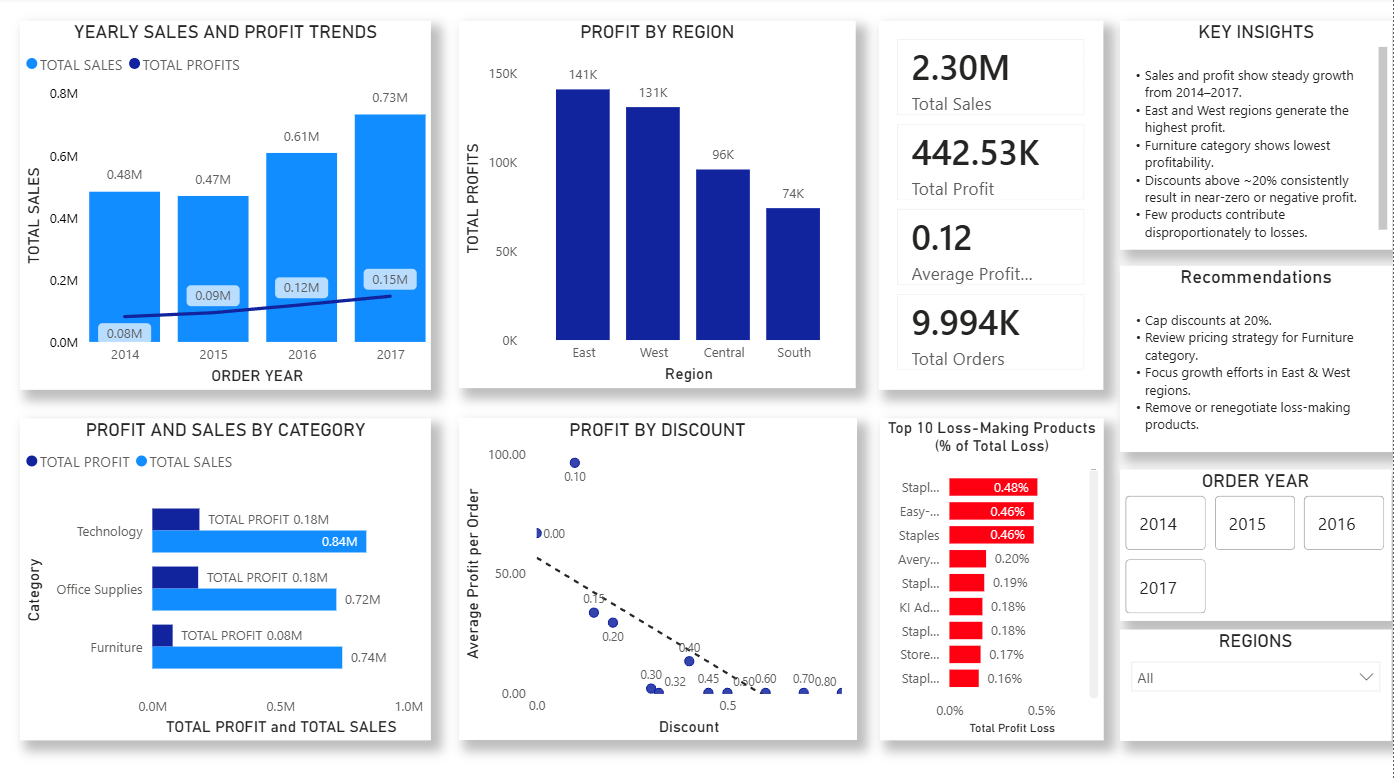

This screenshot's page, from the dashboard's own definition file:
{"tool":"powerbi","page":{"name":"Dashboard","canvas":[1280,720],"ordinal":0},"visuals":[{"type":"lineClusteredColumnComboChart","title":"YEARLY SALES AND PROFIT TRENDS","fields":{"Category":["Superstore.order_year "],"Y":["Sum(Superstore.Sales)"],"Y2":["Sum(Superstore.Profit)"]},"box":[18.4,21.8,377.9,338.9],"z":0},{"type":"columnChart","title":"PROFIT BY REGION","fields":{"Category":["Superstore.Region"],"Y":["Sum(Superstore.Profit)"]},"box":[421.5,21.6,365,337.4],"z":1000},{"type":"clusteredBarChart","title":"PROFIT AND SALES BY CATEGORY","fields":{"Category":["Superstore.Category"],"Y":["Sum(Superstore.Profit)","Sum(Superstore.Sales)"]},"box":[18.4,387.1,377.9,296.4],"z":2000},{"type":"scatterChart","title":"PROFIT BY DISCOUNT","fields":{"Y":["Avg(Superstore.Profit)"],"X":["Superstore.Discount"]},"box":[421.6,387.1,365.3,296.4],"z":3000},{"type":"clusteredBarChart","title":"Top 10 Loss-Making Products (% of Total Loss)","fields":{"Y":["CountNonNull(Superstore.Loses)"],"Category":["Superstore.product_name"]},"box":[808.7,387.1,205.6,296.4],"z":4000},{"type":"cardVisual","fields":{"Data":["Sum(Superstore.Sales)","Sum(Superstore.Profit)","Avg(Superstore.profit_margin)","CountNonNull(Superstore.order_id)"]},"box":[807.5,21.8,206.8,338.9],"z":5000},{"type":"textbox","title":"KEY INSIGHTS","box":[1029.2,21.8,250.4,210.2],"z":5001},{"type":"textbox","title":"Recommendations","box":[1029.2,247,250.4,171.2],"z":5002},{"type":"advancedSlicerVisual","fields":{"Values":["Superstore.order_year "]},"box":[1029.2,434.2,249.3,139],"z":5003},{"type":"slicer","title":"REGIONS","fields":{"Values":["Superstore.Region"]},"box":[1029.2,581.2,249.3,102.2],"z":5004}]}

Visuals, with their boxes in screenshot pixels (x1, y1, x2, y2), scaled from the page's 1280x720 canvas onto the 1394x778 screenshot:
"YEARLY SALES AND PROFIT TRENDS" lineClusteredColumnComboChart: pyautogui.locateOnScreen(20, 24, 432, 390)
"PROFIT BY REGION" columnChart: pyautogui.locateOnScreen(459, 23, 857, 388)
"PROFIT AND SALES BY CATEGORY" clusteredBarChart: pyautogui.locateOnScreen(20, 418, 432, 739)
"PROFIT BY DISCOUNT" scatterChart: pyautogui.locateOnScreen(459, 418, 857, 739)
"Top 10 Loss-Making Products (% of Total Loss)" clusteredBarChart: pyautogui.locateOnScreen(881, 418, 1105, 739)
cardVisual - Sum(Superstore.Sales) x Sum(Superstore.Profit): pyautogui.locateOnScreen(879, 24, 1105, 390)
"KEY INSIGHTS" textbox: pyautogui.locateOnScreen(1121, 24, 1393, 251)
"Recommendations" textbox: pyautogui.locateOnScreen(1121, 267, 1393, 452)
advancedSlicerVisual - Superstore.order_year : pyautogui.locateOnScreen(1121, 469, 1392, 619)
"REGIONS" slicer: pyautogui.locateOnScreen(1121, 628, 1392, 738)
